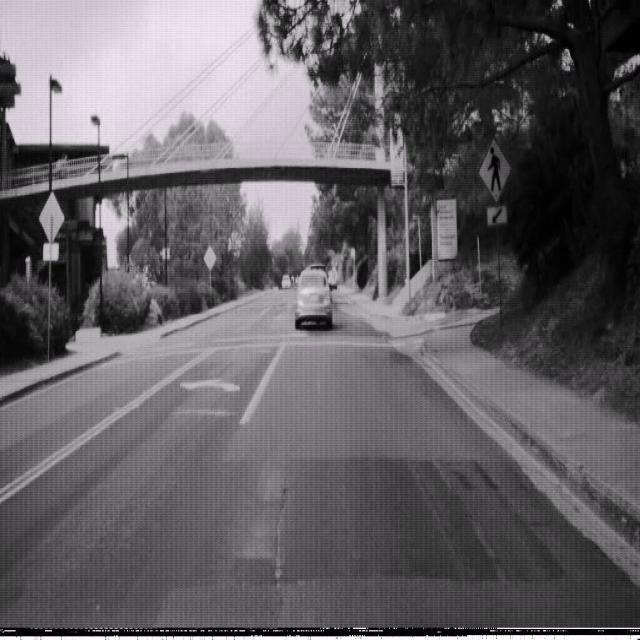pedestrianCrossing: (479, 135, 512, 205)
